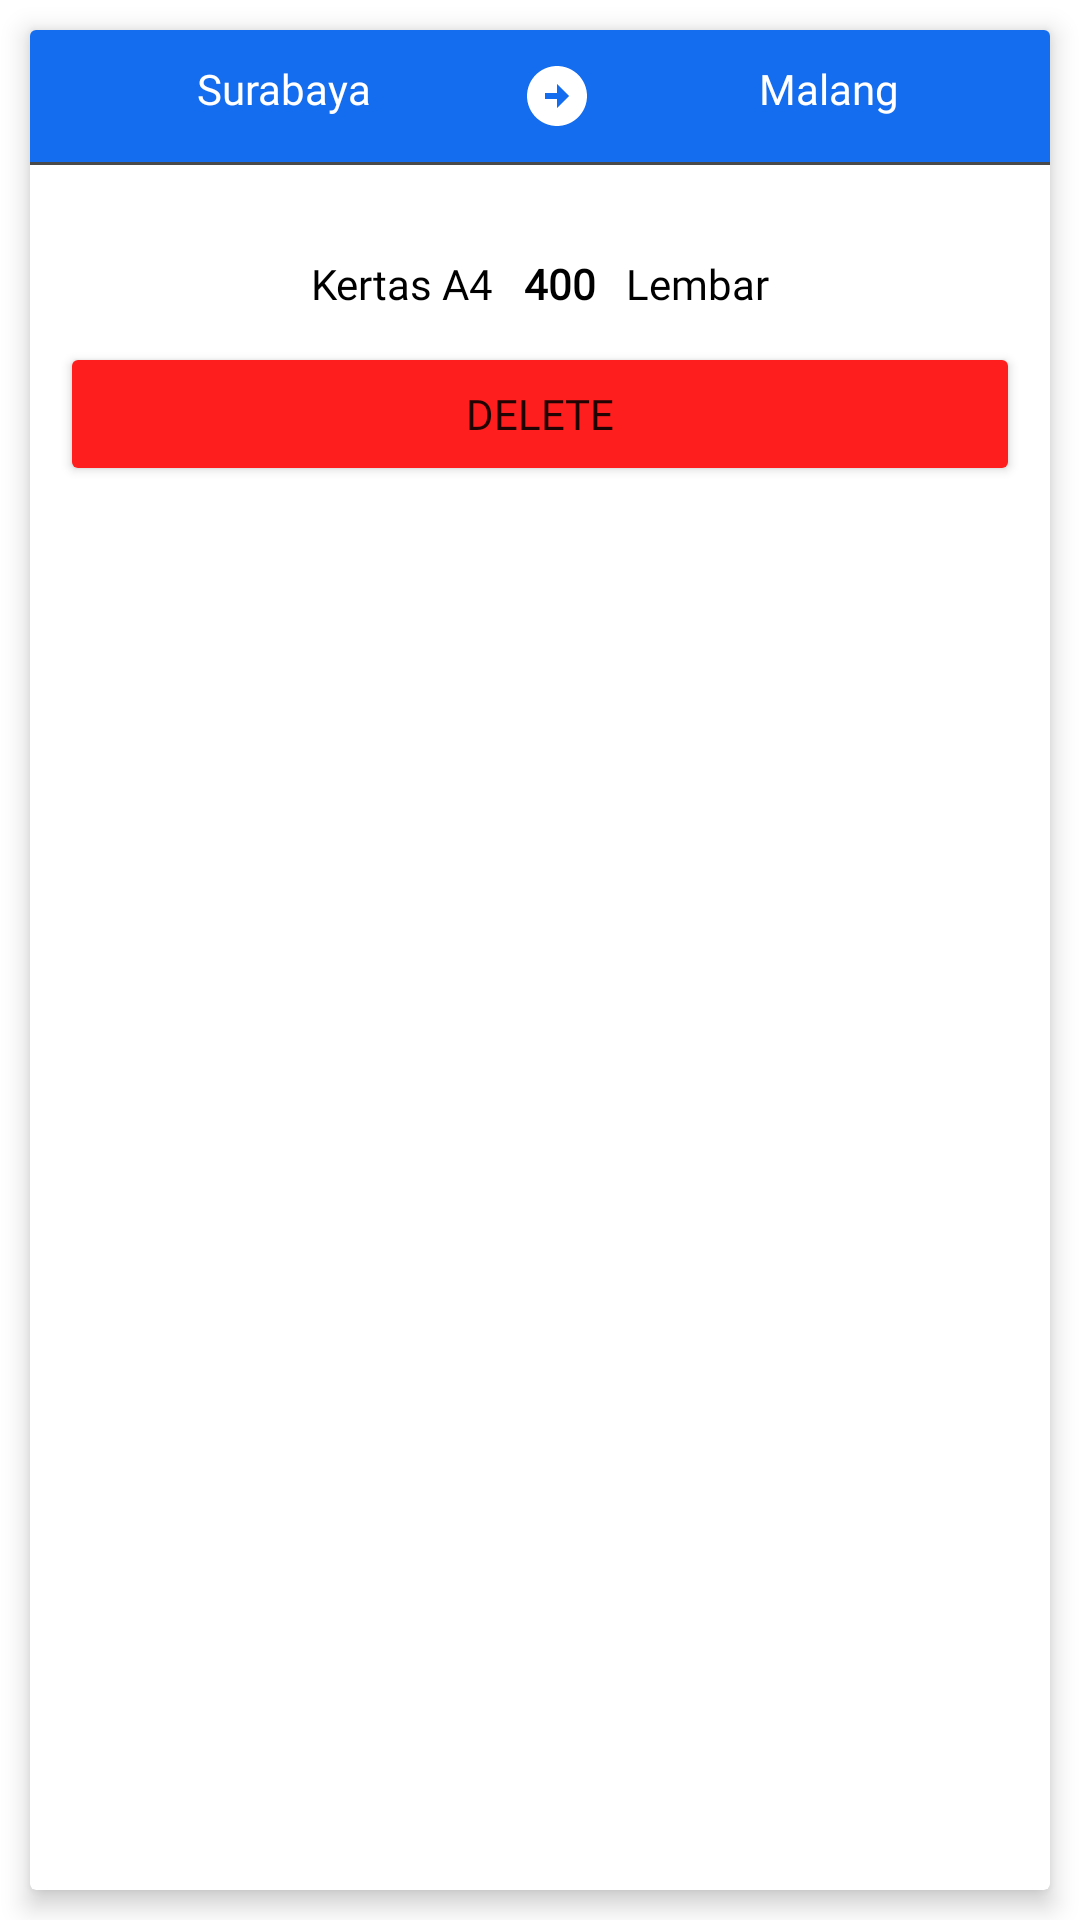

Icon click points for this 1080x1920 phone screenshot, format (x,y):
arrow circle right: (557,96)
